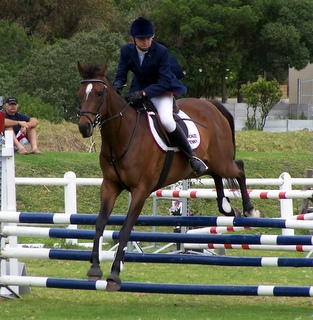person: (114, 18, 209, 178)
